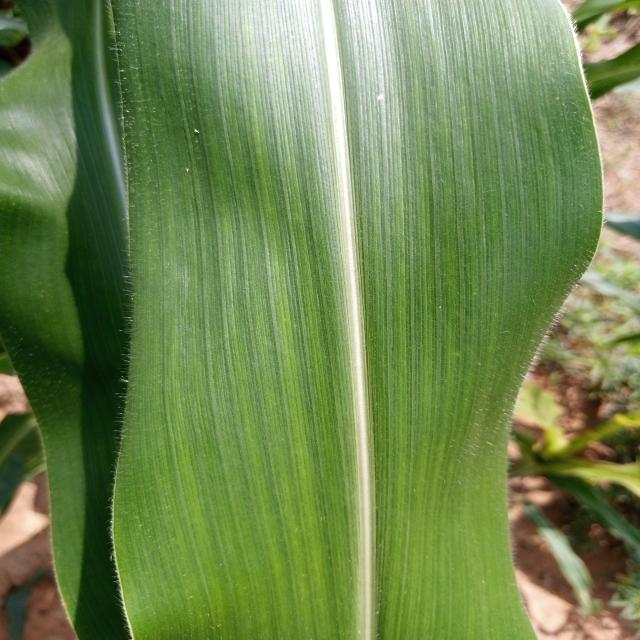healthy-maize: (107, 0, 503, 640)
